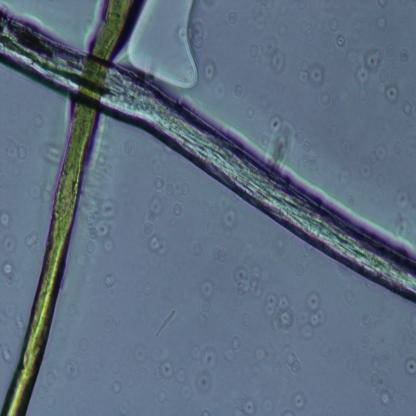Air bubble: (131, 1, 202, 90)
Background material: (354, 43, 410, 105), (302, 14, 364, 60), (151, 344, 193, 403), (82, 198, 119, 258), (244, 2, 292, 38), (263, 114, 292, 167), (296, 291, 326, 338), (232, 262, 270, 299), (207, 195, 237, 241), (371, 352, 397, 405), (191, 343, 218, 394), (359, 142, 393, 181), (0, 211, 18, 284), (389, 190, 416, 237), (264, 294, 296, 332), (252, 342, 282, 382), (0, 295, 27, 335), (195, 281, 216, 332), (5, 135, 28, 177), (142, 198, 166, 238), (293, 130, 318, 167), (298, 57, 326, 88), (190, 19, 210, 55), (110, 130, 134, 159), (266, 41, 286, 74), (222, 330, 242, 363), (30, 181, 56, 204), (209, 240, 230, 268), (64, 352, 85, 380), (147, 231, 170, 256), (158, 307, 176, 338), (39, 141, 63, 164), (26, 104, 45, 133), (54, 318, 72, 346), (23, 230, 41, 257), (233, 396, 257, 416), (293, 251, 312, 275), (202, 56, 218, 84), (154, 180, 175, 199), (284, 351, 302, 373), (290, 391, 308, 411), (316, 93, 334, 110), (226, 5, 240, 26), (134, 344, 148, 364), (374, 14, 389, 32), (103, 270, 117, 289), (171, 201, 185, 219), (405, 356, 416, 376), (340, 169, 352, 187), (245, 101, 256, 120), (249, 44, 265, 57), (1, 346, 12, 364), (346, 358, 358, 374), (113, 378, 123, 397), (360, 336, 373, 350), (233, 84, 244, 98), (276, 82, 286, 96)
Microfibre: (0, 14, 416, 303), (0, 1, 142, 415)
